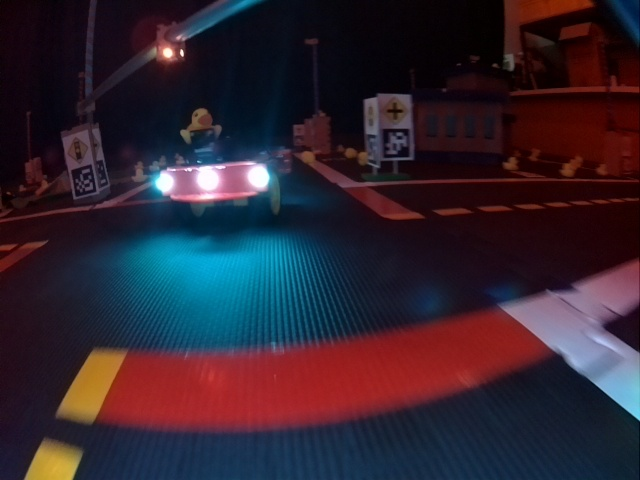Duckie: (183, 108, 221, 144), (305, 151, 316, 164)
Duckiebot: (157, 145, 282, 219)
Intersection sign: (382, 97, 410, 124)
QR code: (70, 166, 96, 197), (383, 129, 409, 158), (366, 133, 378, 166)
Signal sign: (66, 136, 89, 163), (366, 102, 377, 129)
